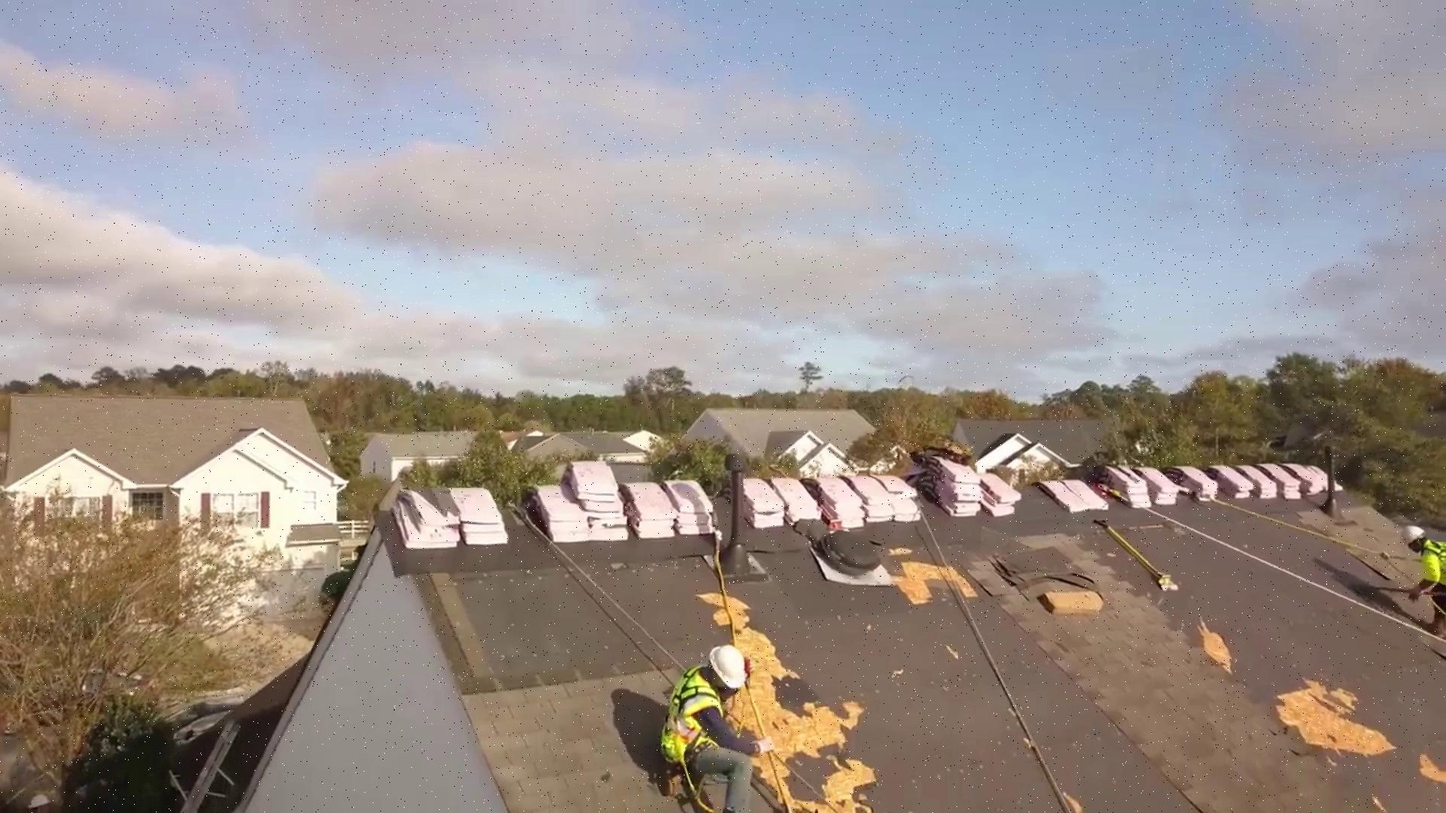Hard_hat: (709, 646, 751, 690)
Vest: (649, 676, 716, 765), (1424, 538, 1446, 591)
